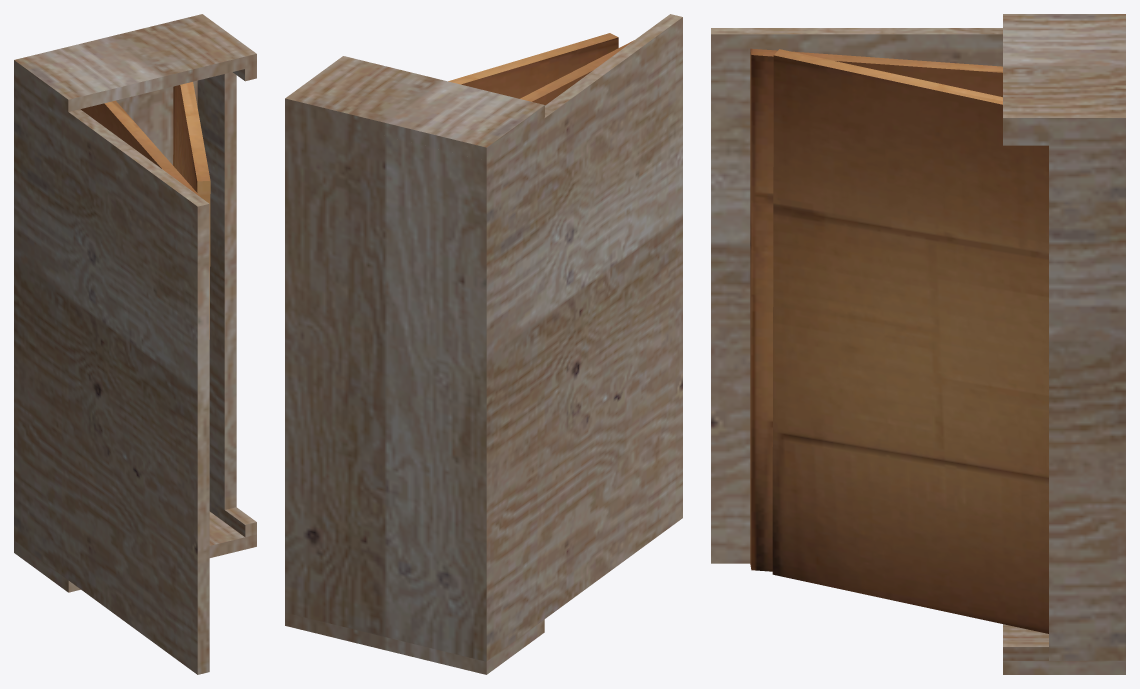
The model's file is box_holder_big_2.vmf.obj.
3 views of the same model, side by side, from view 1: azimuth 30°, elevation 25°; view 2: azimuth 150°, elevation 25°; view 3: azimuth 270°, elevation 25° (orthographic). The views are drawn at different scales.
Visible parts, largest first — view 1: 4, 9, 7, 3, 133, 5, 2, 10; view 2: 4, 3, 9, 7, 133, 2, 5; view 3: 133, 7, 4, 5, 9, 2, 10, 8.
Part boxes in pixels (x1,y1,x2,y2): 4: [14, 72, 209, 674]; 9: [14, 14, 256, 111]; 7: [197, 72, 236, 521]; 3: [14, 73, 197, 545]; 133: [173, 82, 210, 339]; 5: [80, 100, 201, 197]; 2: [14, 511, 256, 592]; 10: [224, 507, 256, 537]; 4: [474, 14, 682, 661]; 3: [297, 115, 493, 661]; 9: [285, 56, 544, 160]; 7: [285, 111, 297, 615]; 133: [448, 33, 618, 98]; 2: [285, 612, 544, 674]; 5: [520, 40, 634, 105]; 133: [772, 49, 1048, 633]; 7: [1049, 132, 1125, 660]; 4: [711, 28, 1002, 563]; 5: [750, 48, 1002, 571]; 9: [1003, 14, 1125, 131]; 2: [1003, 624, 1125, 674]; 10: [1003, 640, 1048, 660]; 8: [1003, 132, 1048, 145].
Bounding box in the file's own units: 16.01 × 40 × 27.
Materials: 2 (2 with a texture image).
